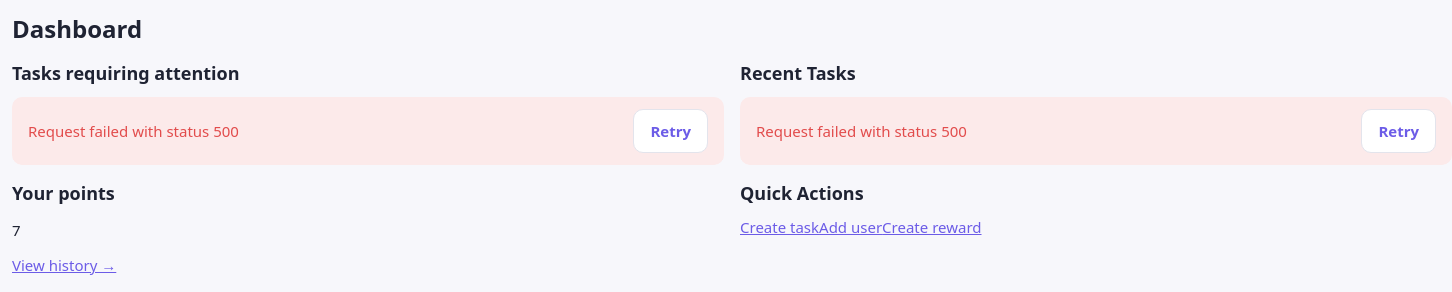
Test: DashboardPage › a failed section shows a retry action without hiding successful sections
The image size is (1452, 292).
Expected: the text "7" is shown, [12,220,21,240]
Expected: the link "Create task" is shown, [740,217,819,237]
What coordinates should you click on to do the following:
click the 1st button "Retry"
I would click on:
 (671, 131)
Its box is [633,109,708,153].
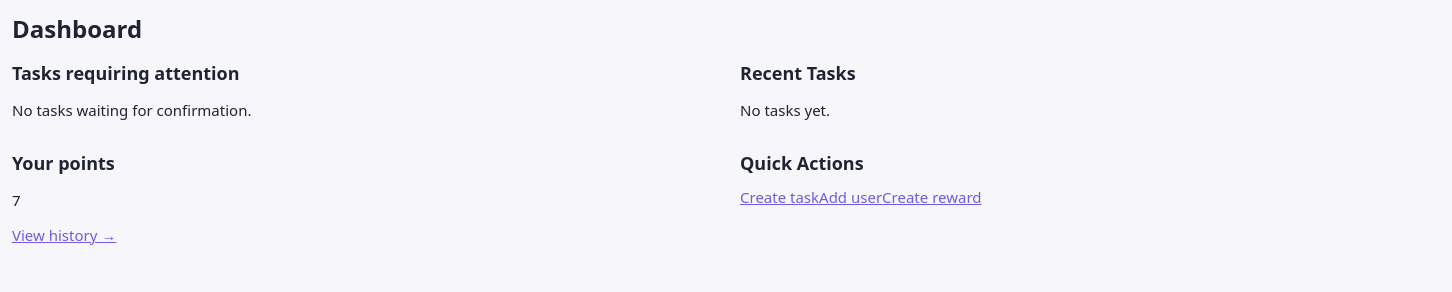
Expected: the text "No tasks waiting for confirmation." is shown, [12,100,251,120]
